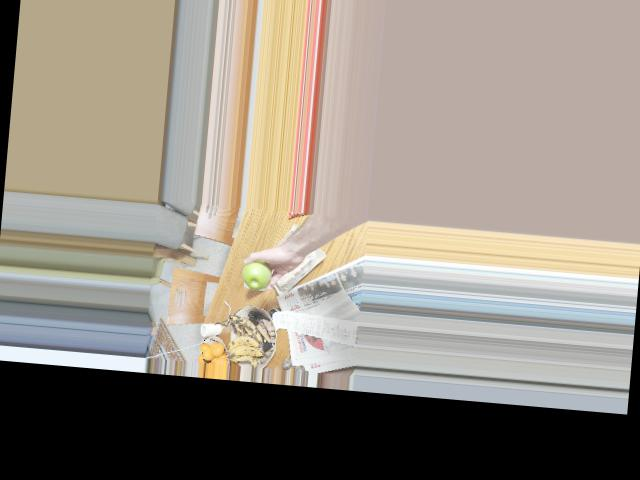apple: (239, 257, 275, 292)
